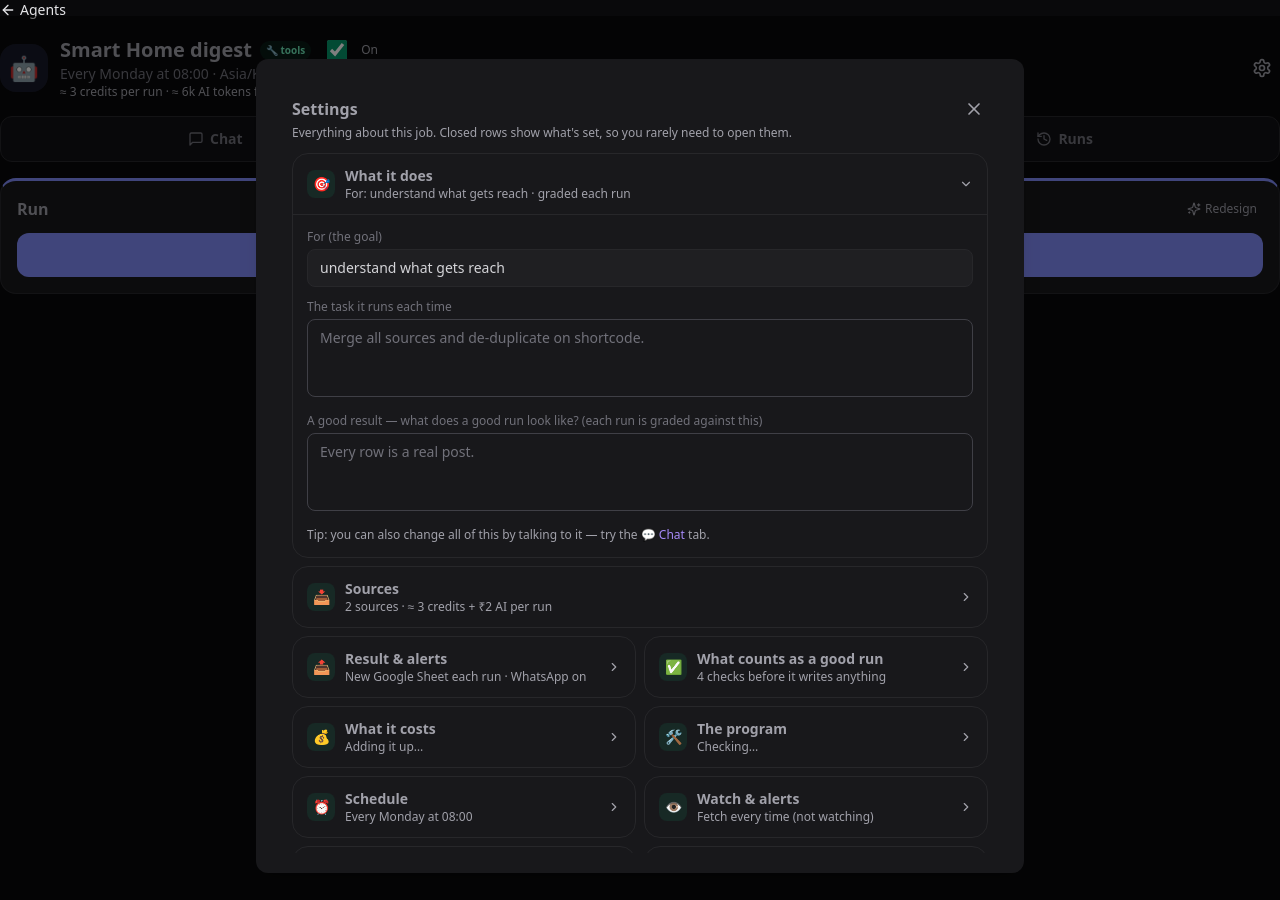
the accordion (BEA-1381) › "What counts as a good run" reads the contract in plain English, straight from the server
Expected: the text with test id "srow-contract-summary" reads "4 checks before it writes anything", x1=697 y1=668 x2=886 y2=685
Click the heading with test id "srow-contract-summary". click: click(816, 667)
box: x1=645 y1=637 x2=987 y2=697
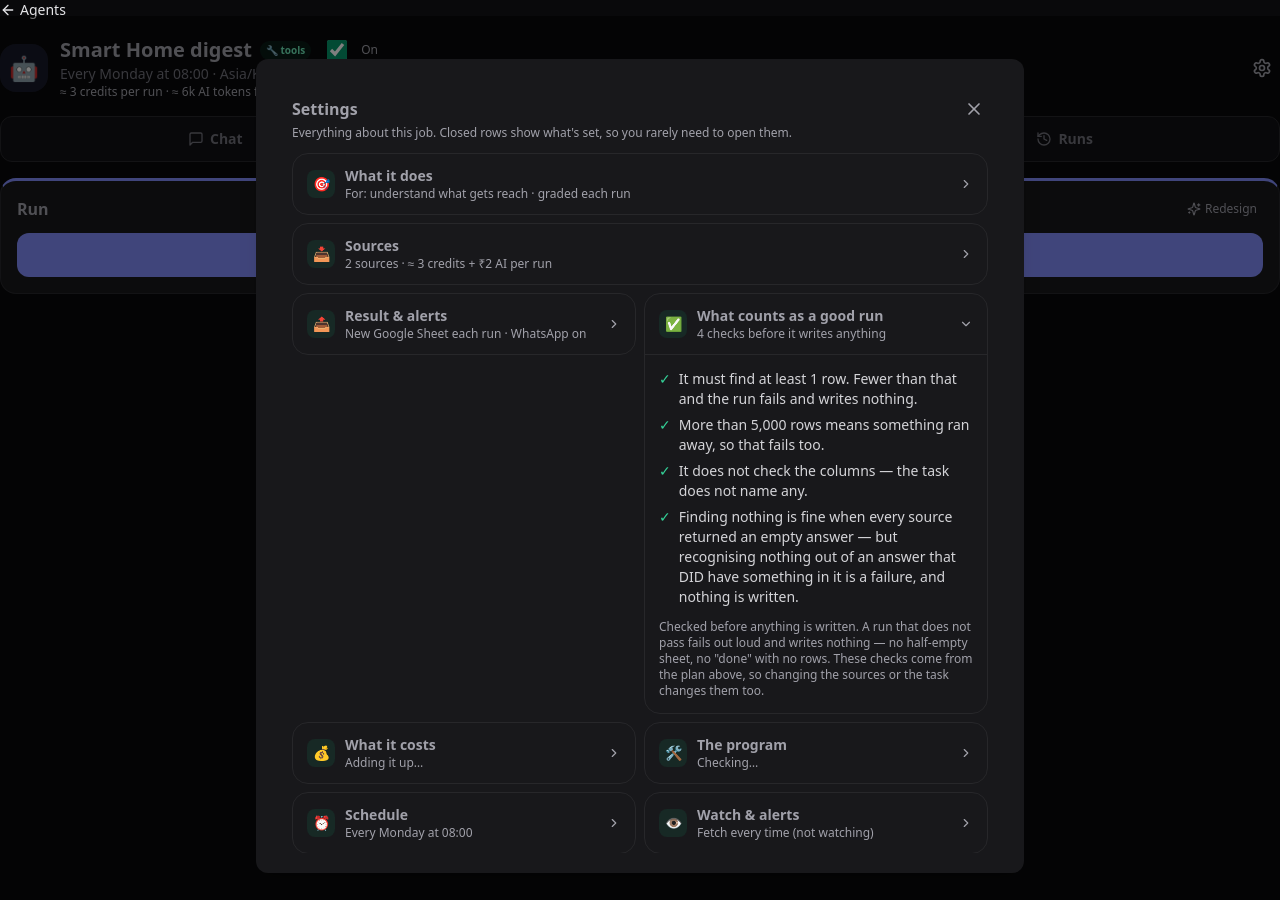
Now the list with test id "contract-words" shows "It must find at least 1 row.", box x1=679 y1=369 x2=957 y2=408
Now the list with test id "contract-words" shows "recognising nothing out of an answer that DID have something in it is a failure", box x1=679 y1=507 x2=956 y2=606
